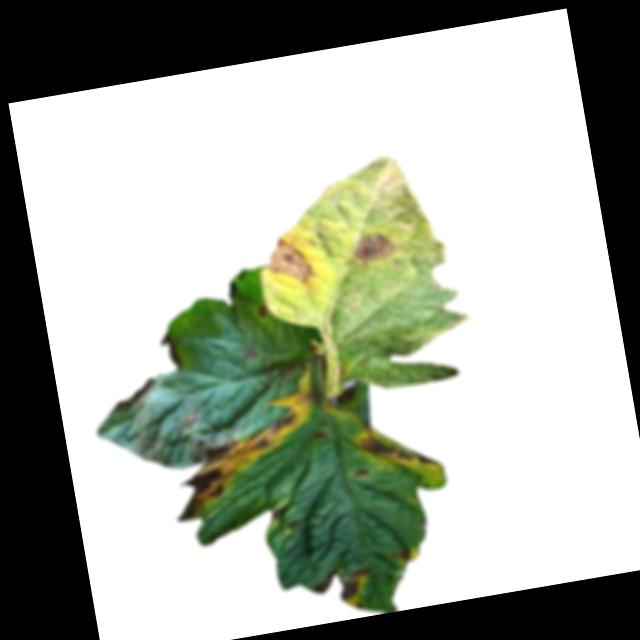Early_blight: (158, 388, 331, 522), (130, 401, 236, 474), (356, 422, 442, 477), (307, 558, 375, 605), (263, 232, 316, 290), (109, 375, 158, 411), (348, 230, 395, 263), (156, 331, 184, 371), (394, 543, 414, 563), (351, 465, 367, 477), (257, 303, 268, 319)
